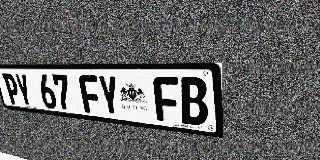6: (37, 74, 58, 109)
7: (51, 75, 74, 111)
B: (179, 77, 208, 126)
F: (152, 77, 181, 123), (78, 75, 102, 114)
P: (2, 74, 21, 105)
Y: (97, 75, 122, 117), (14, 74, 34, 107)
